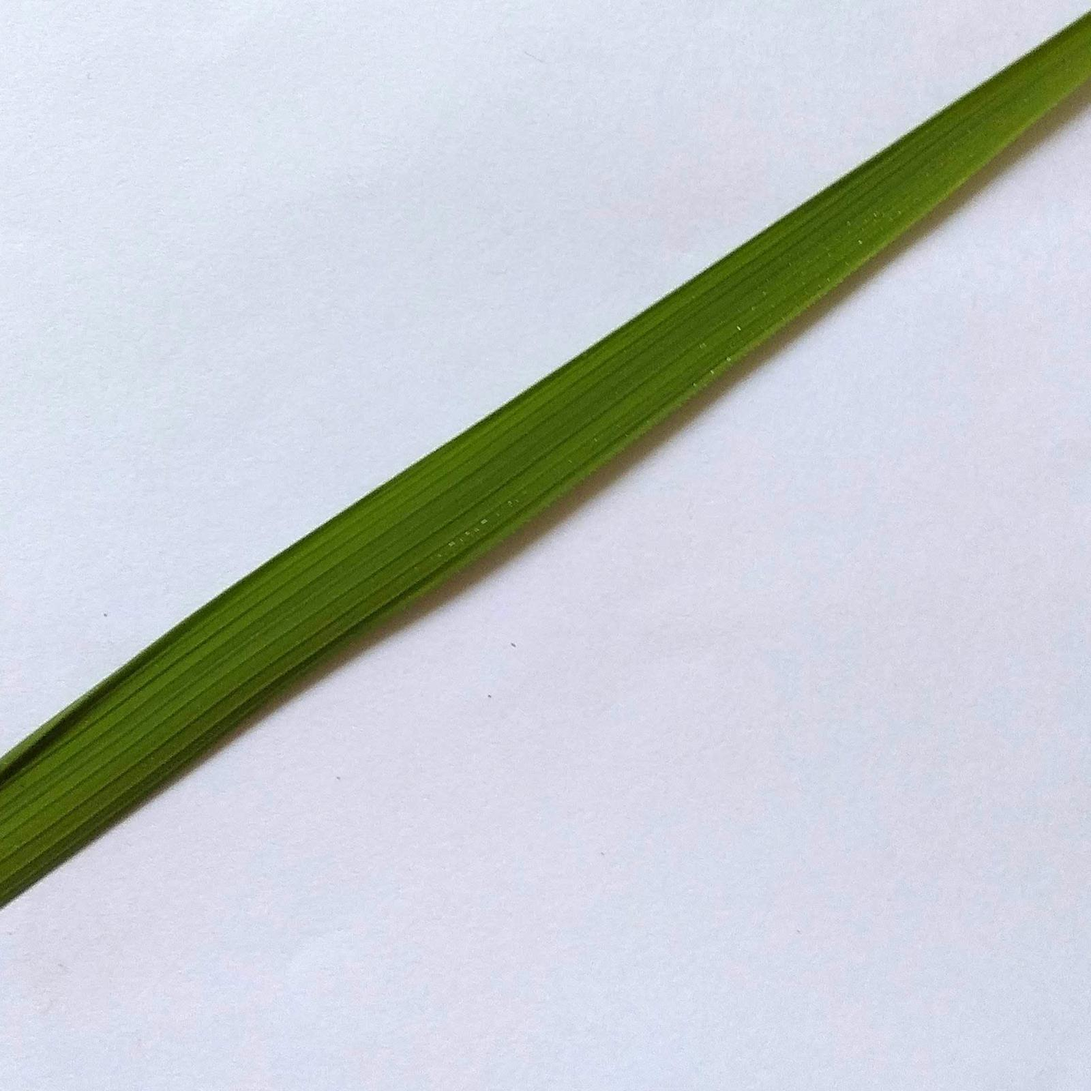Healthy: (0, 14, 1090, 905)
